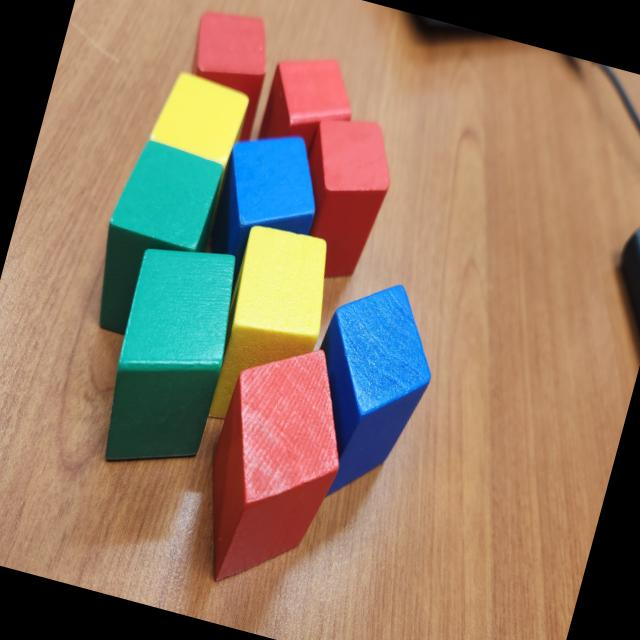blue: (284, 268, 453, 517), (202, 120, 336, 284)
green: (88, 231, 252, 484), (80, 136, 235, 352)
red: (178, 328, 366, 604), (274, 107, 404, 290), (171, 2, 281, 146), (254, 43, 365, 169)
yellow: (199, 220, 344, 441), (148, 67, 252, 167)
